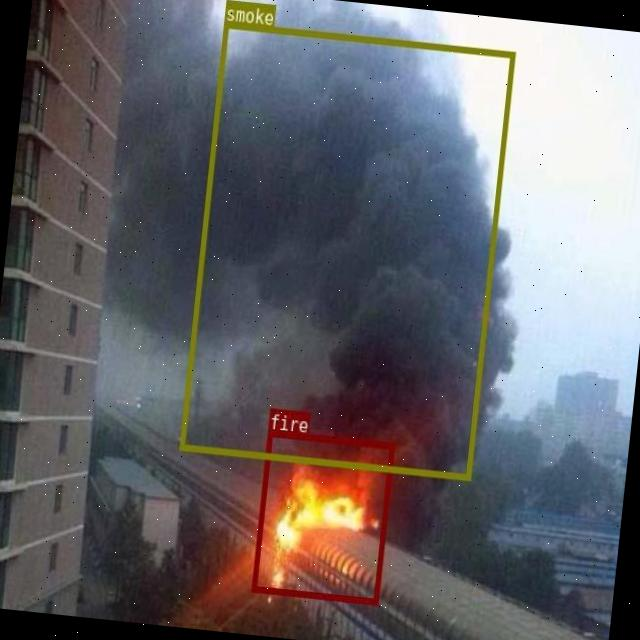fire: (251, 430, 394, 604)
smoke: (179, 21, 514, 480)
